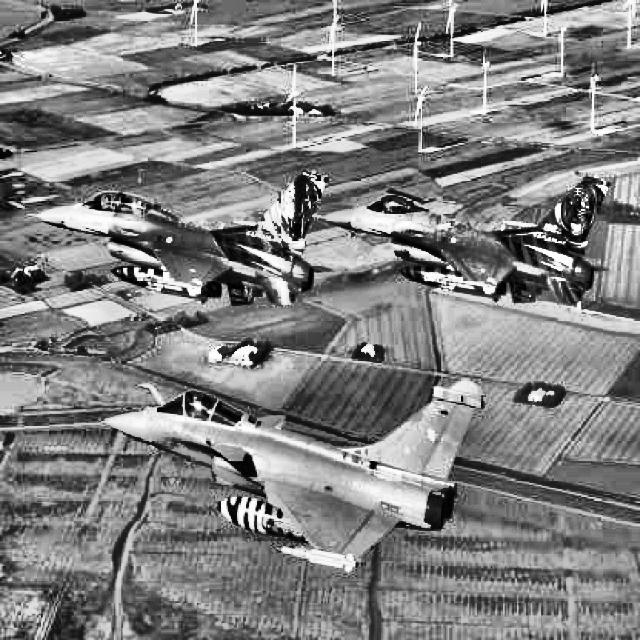F16: (25, 170, 329, 304), (313, 176, 612, 304)
Rafale: (101, 377, 484, 574)
